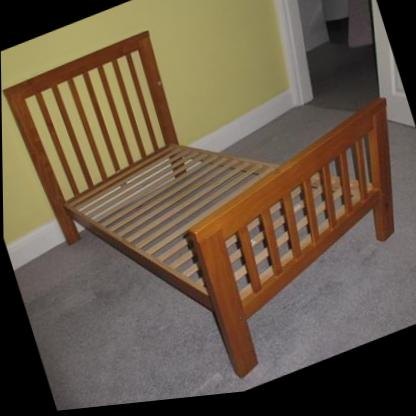Bed: (3, 0, 416, 416)
